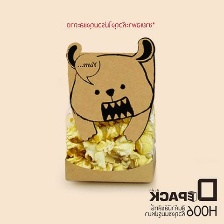snack: (56, 32, 165, 188)
